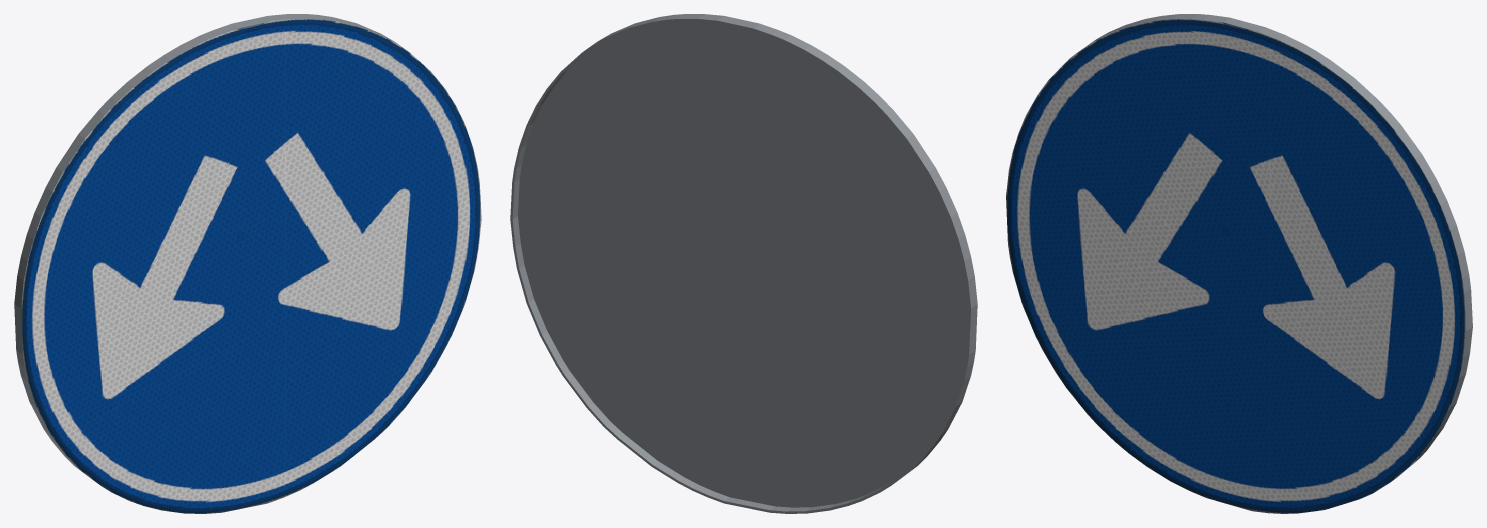
The picture shows the model from 3 angles, left to right: view 1: azimuth 30°, elevation 25°; view 2: azimuth 150°, elevation 25°; view 3: azimuth 330°, elevation 25°; orthographic projection.
Visible parts, largest first — view 1: cat_902eea4d78694c2f; view 2: cat_902eea4d78694c2f; view 3: cat_902eea4d78694c2f.
Part boxes in pixels (left/top/right/bottom): cat_902eea4d78694c2f: left=14, top=14, right=481, bottom=513; cat_902eea4d78694c2f: left=510, top=14, right=977, bottom=513; cat_902eea4d78694c2f: left=1006, top=14, right=1472, bottom=513.
Size of the model in its own units: 0.6 by 0.015 by 0.6.
Materials: 2 (1 with a texture image).
